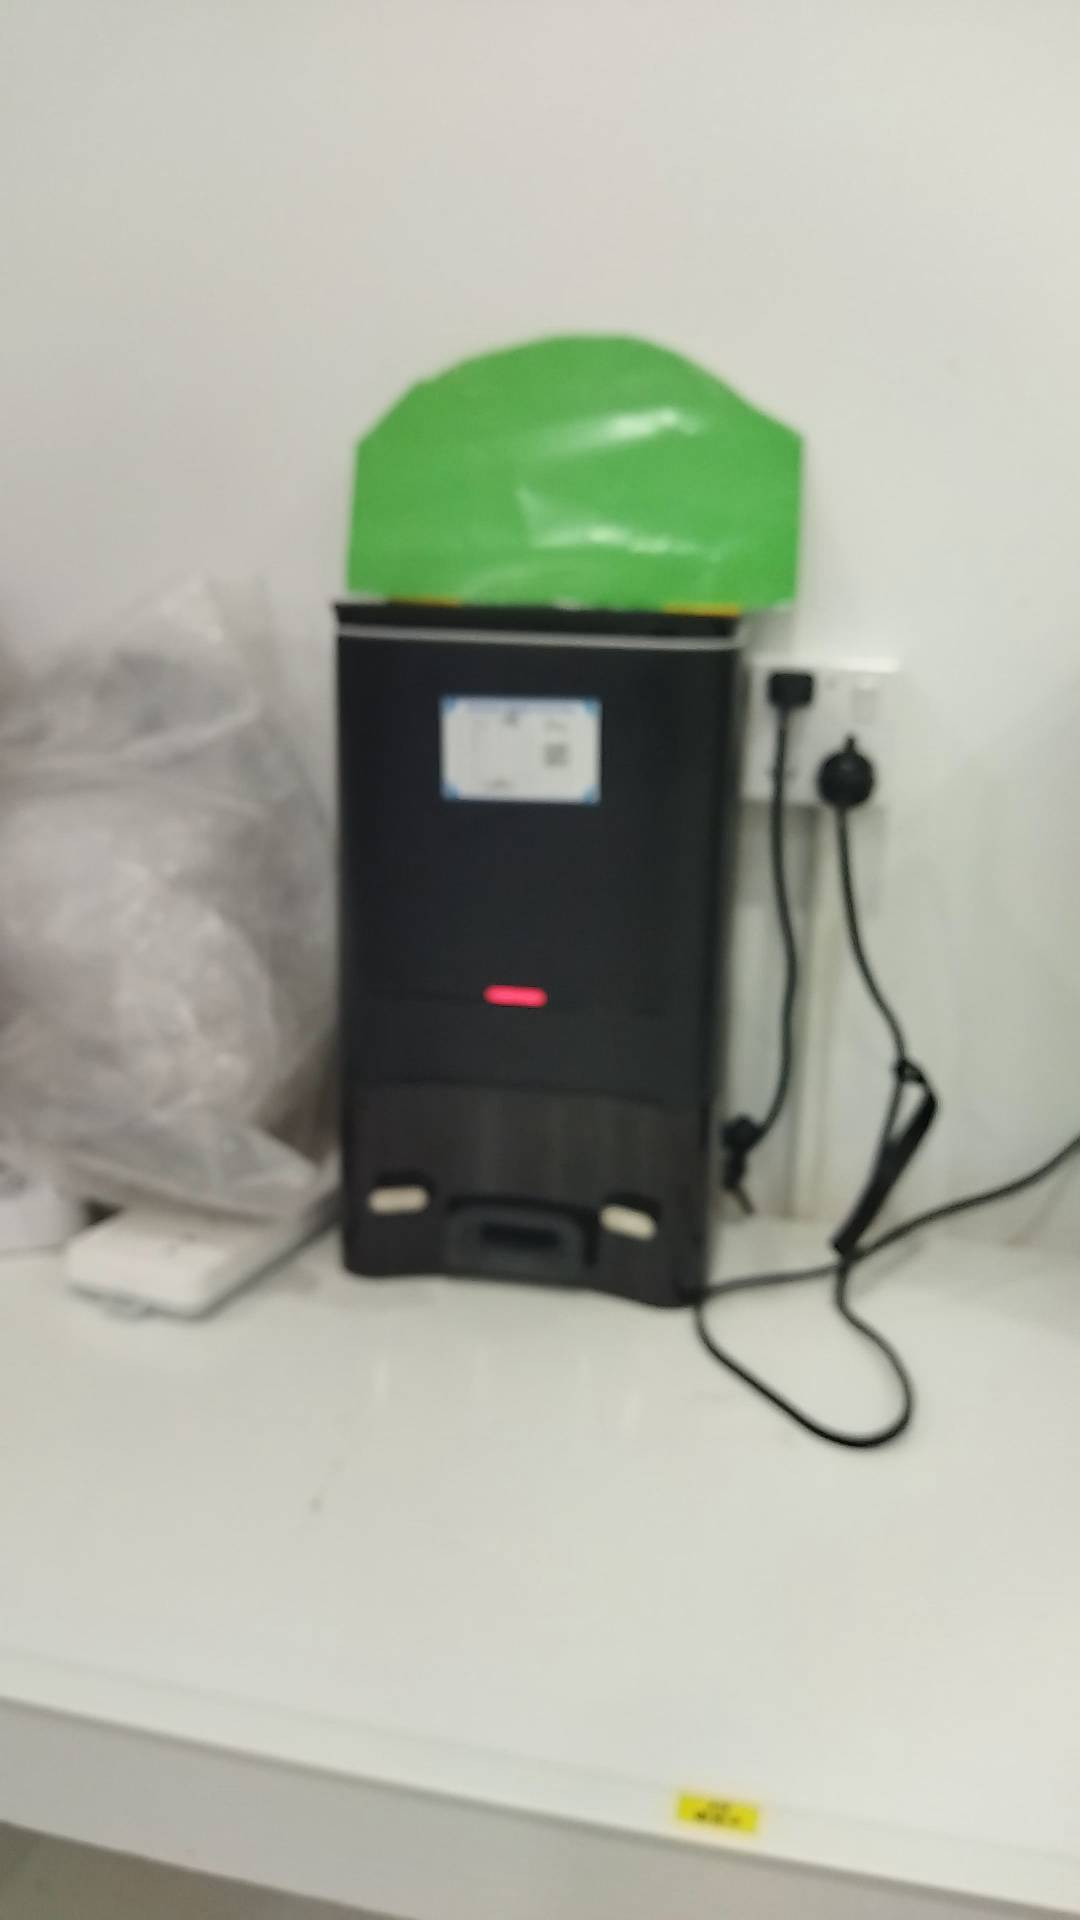dust collecting barrel: (338, 593, 750, 1308)
